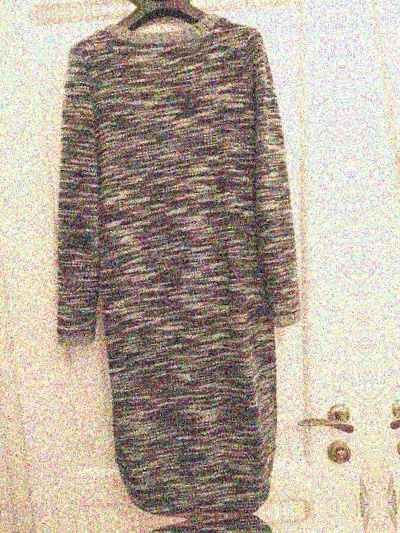Dress: (7, 0, 346, 522), (369, 0, 400, 492), (49, 516, 389, 533), (0, 0, 304, 11)
